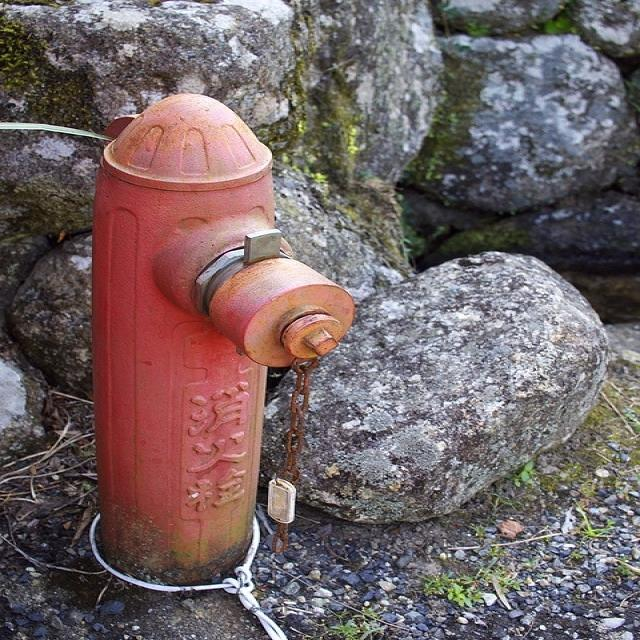fire_hydrant: (74, 63, 343, 598)
